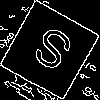S: (25, 25, 77, 81)
